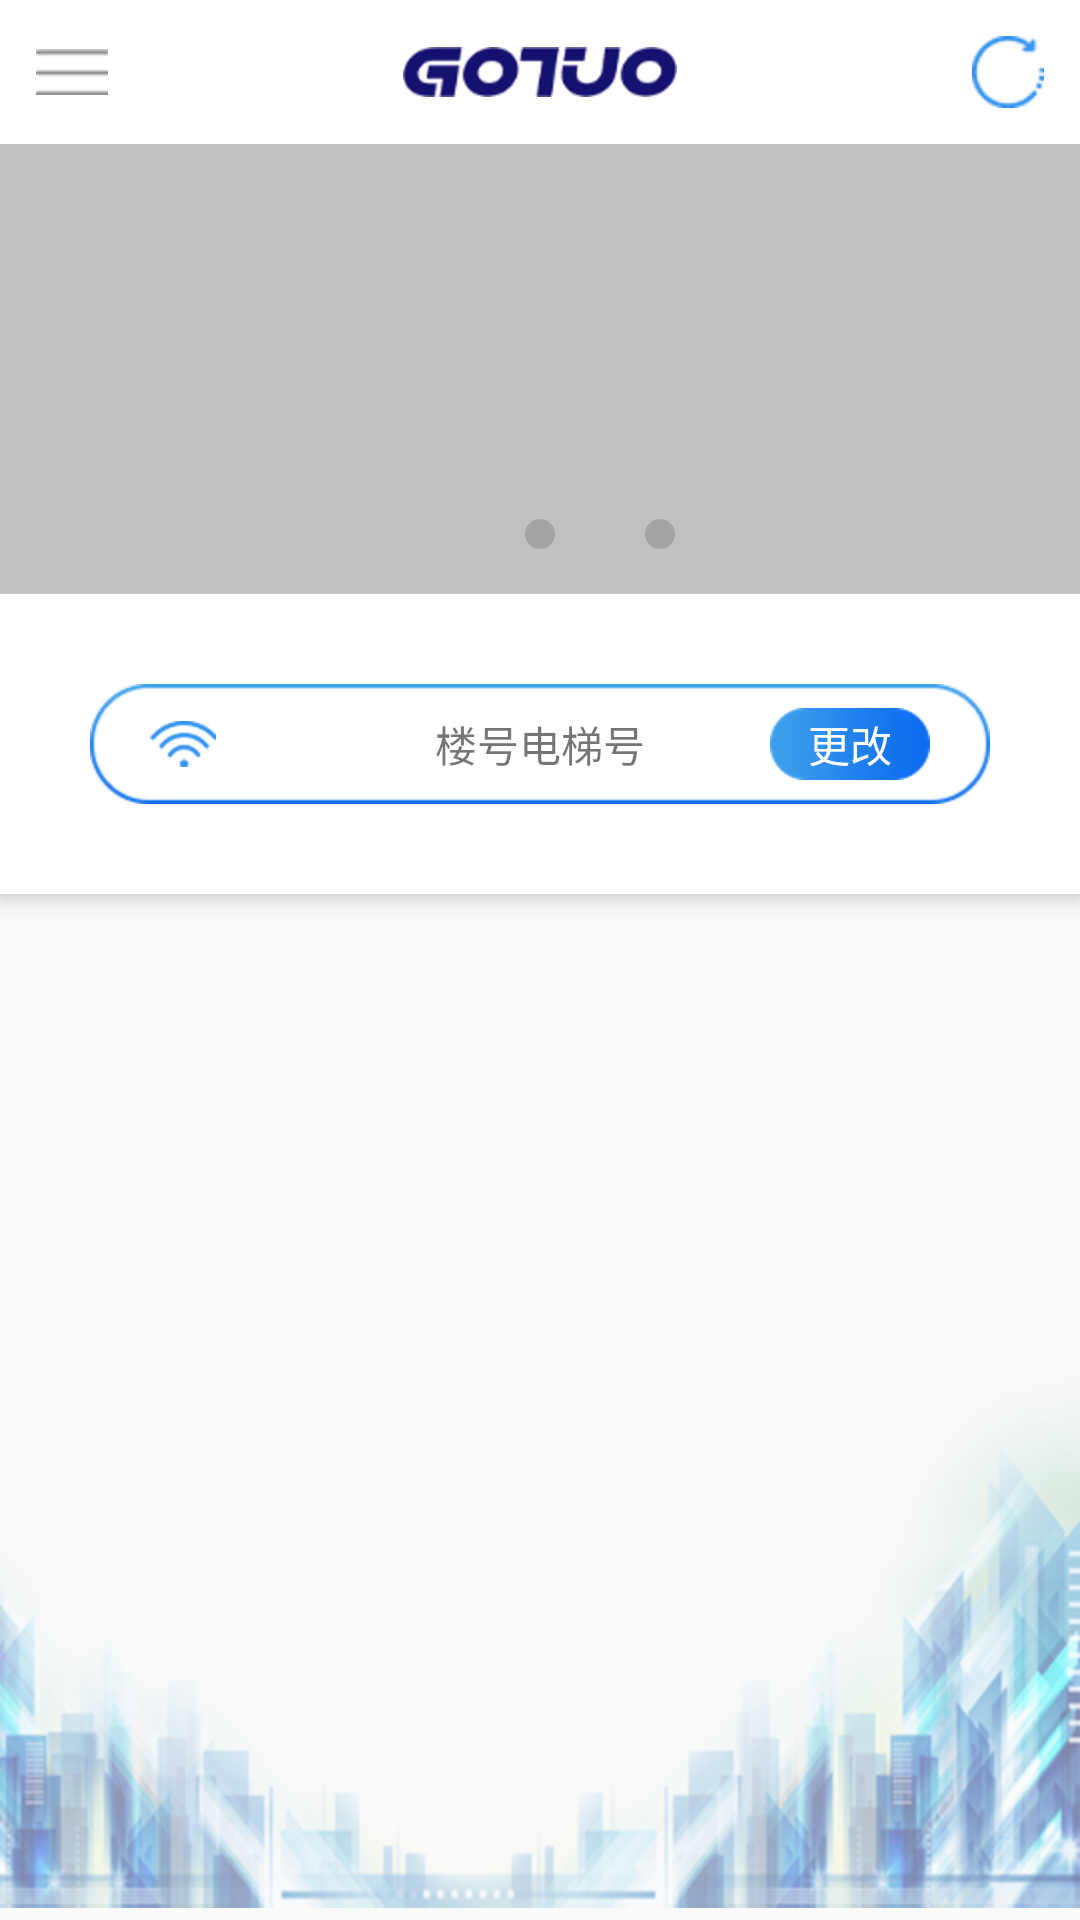

Icon bounding boxes for this 1080×1920 phone screenshot, format (x1, y1, x2, y2):
gengduo: (36, 49, 108, 95)
shuaixn: (972, 36, 1044, 108)
wifi: (150, 721, 216, 767)
